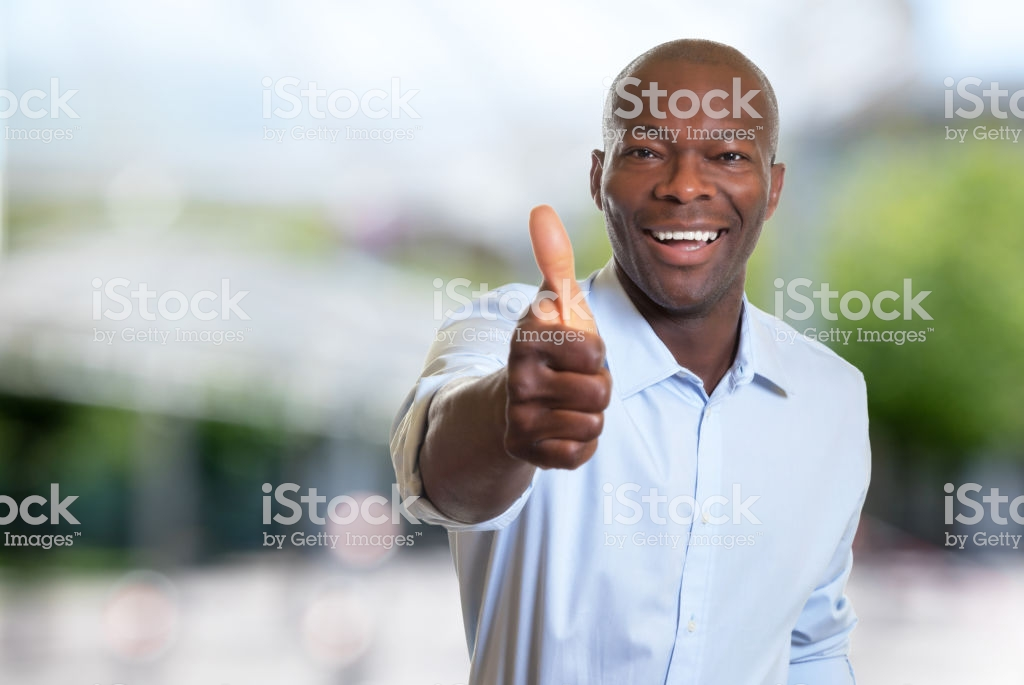thumbsup: (503, 203, 616, 472)
